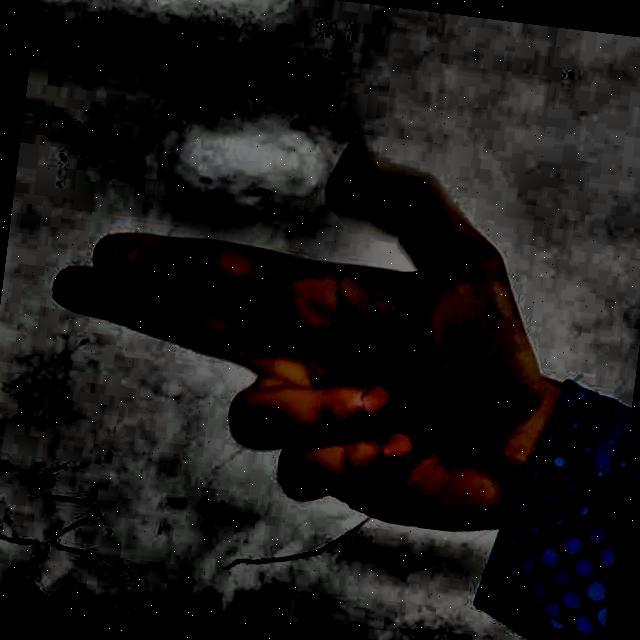Jha: (8, 61, 632, 640)
